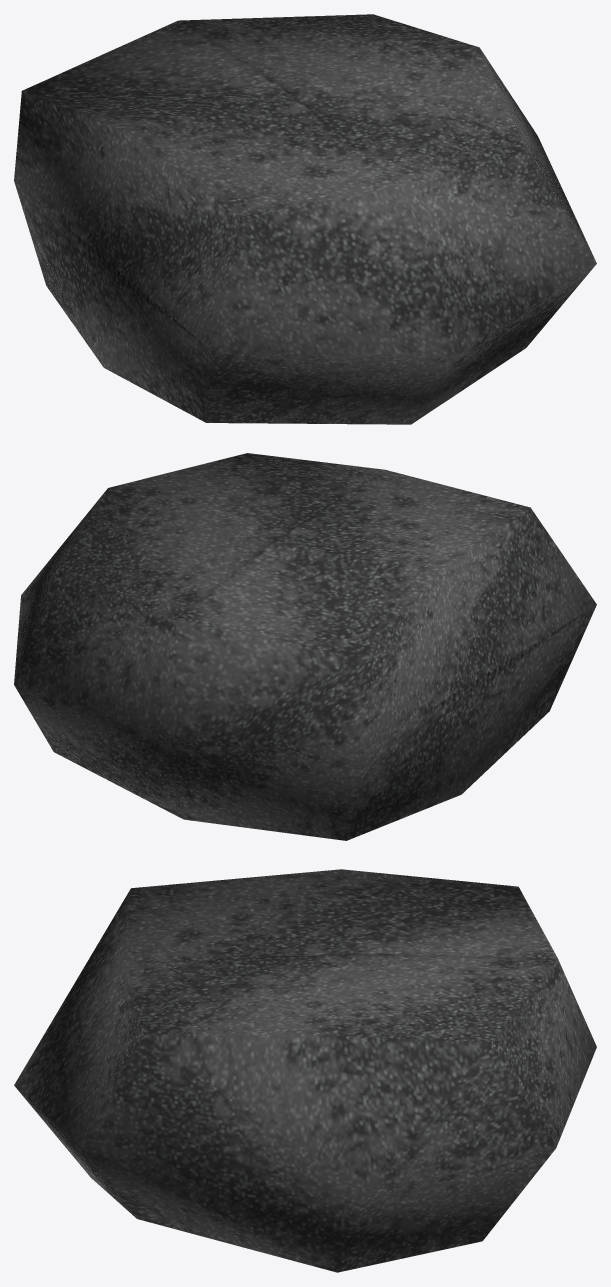
The model's file is platform2.fbx.
3 views of the same model, one above another, from view 1: azimuth 30°, elevation 25°; view 2: azimuth 150°, elevation 25°; view 3: azimuth 270°, elevation 25° (orthographic). The views are drawn at different scales.
Parts seen in each view (by area): view 1: Cube_001; view 2: Cube_001; view 3: Cube_001.
Part boxes in pixels (x1,y1,x2,y2): Cube_001: [14, 14, 596, 424]; Cube_001: [14, 453, 596, 840]; Cube_001: [14, 869, 596, 1272].
Bounding box in the file's own units: 2.92 × 1.88 × 3.24.
